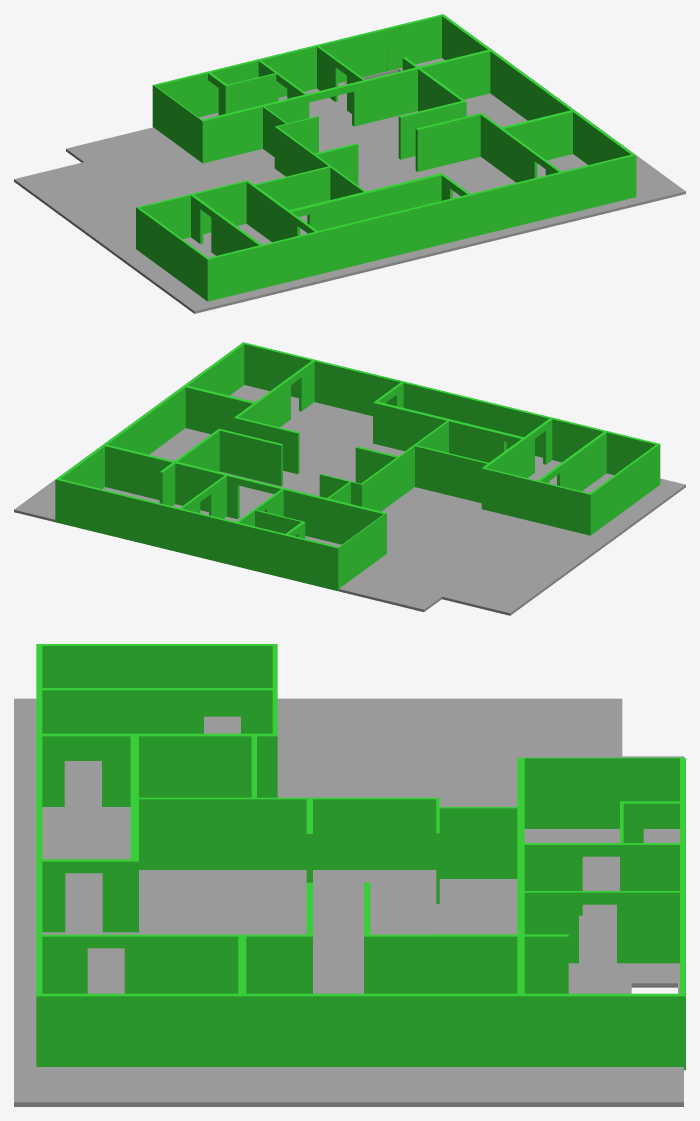
File: level2pt2.fbx
The picture shows the model from 3 angles, top to bottom: view 1: azimuth 30°, elevation 25°; view 2: azimuth 150°, elevation 25°; view 3: azimuth 270°, elevation 25°; orthographic projection. The views are drawn at different scales.
Parts seen in each view (by area): view 1: pCube23; view 2: pCube23; view 3: pCube23.
Boxes of the visible parts, box(x1,y1,x2,y2) form: pCube23: box(14, 14, 685, 313); pCube23: box(14, 342, 685, 615); pCube23: box(14, 644, 685, 1106).
Size of the model in its own units: 3528 by 305 by 2480.
